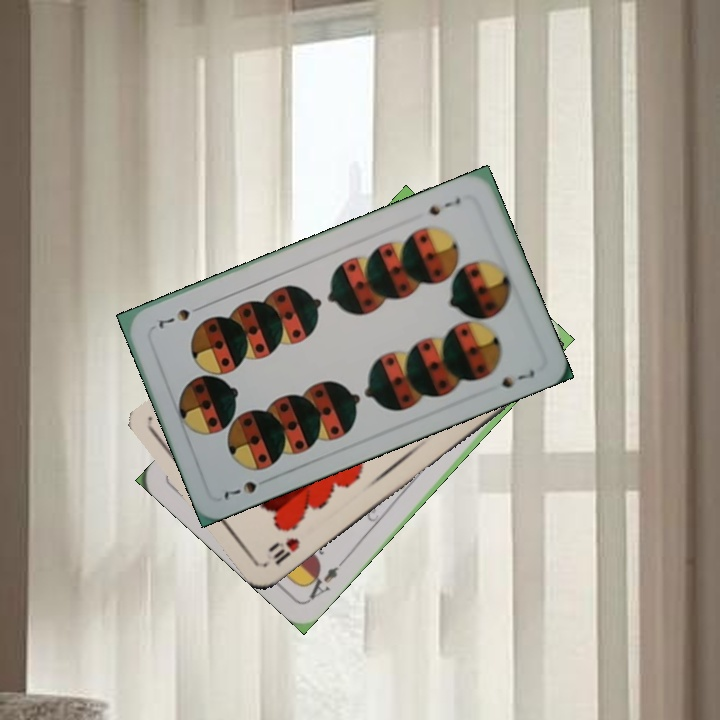EA: (299, 555, 347, 603)
H10: (265, 533, 303, 568)
S7: (219, 477, 260, 503), (425, 193, 463, 218)
